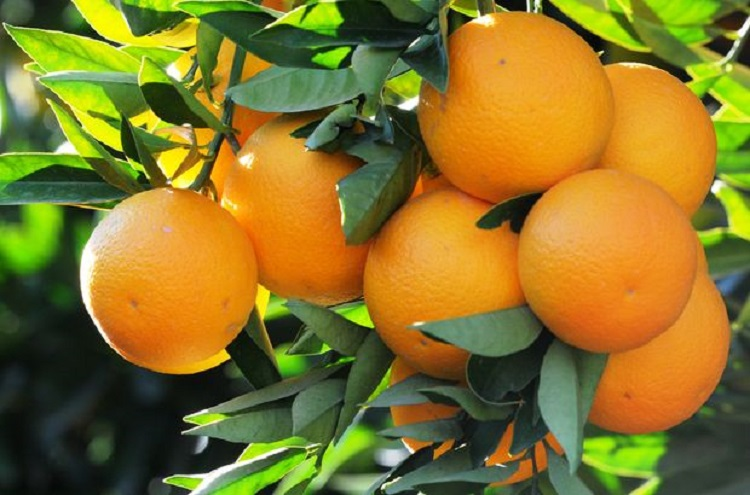portakal: (358, 3, 608, 201), (66, 160, 260, 375)
